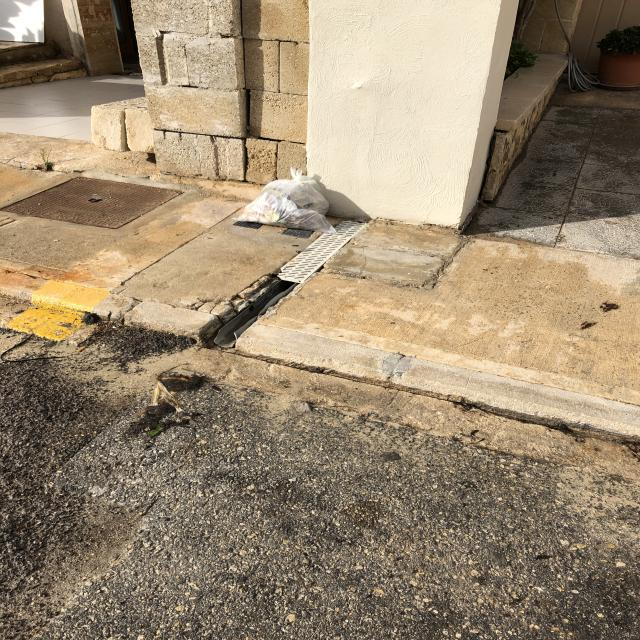Organic Waste -White Bag-: (239, 168, 338, 241)
